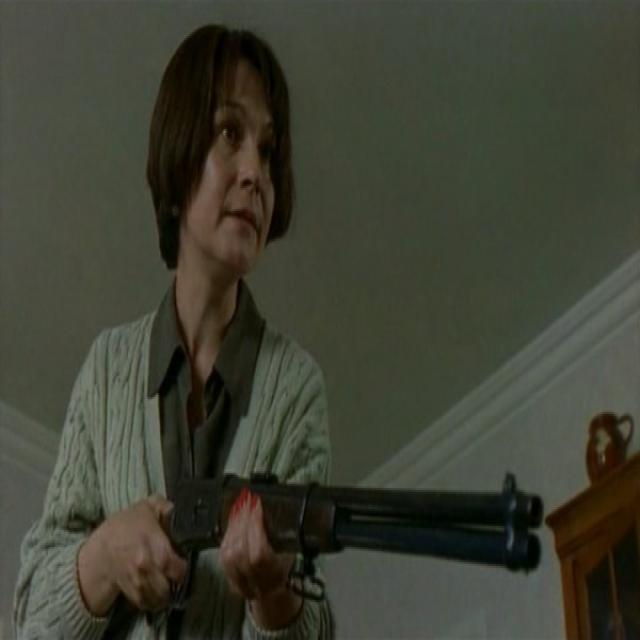rifle: (159, 463, 552, 613)
